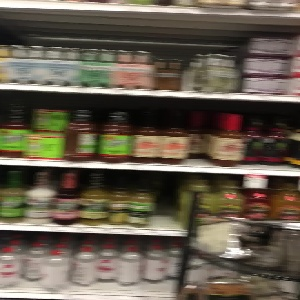void: (151, 172, 184, 230)
